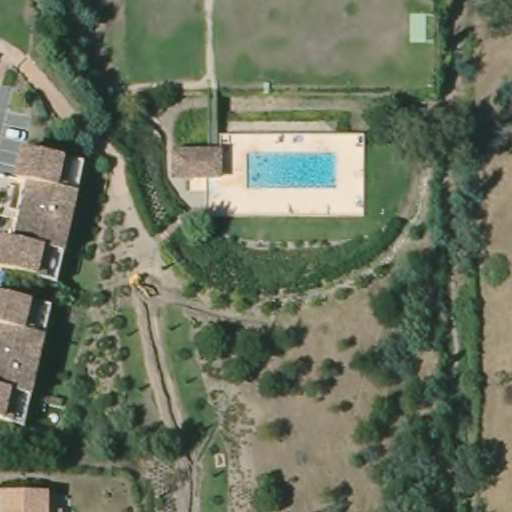pool: (242, 146, 344, 193)
